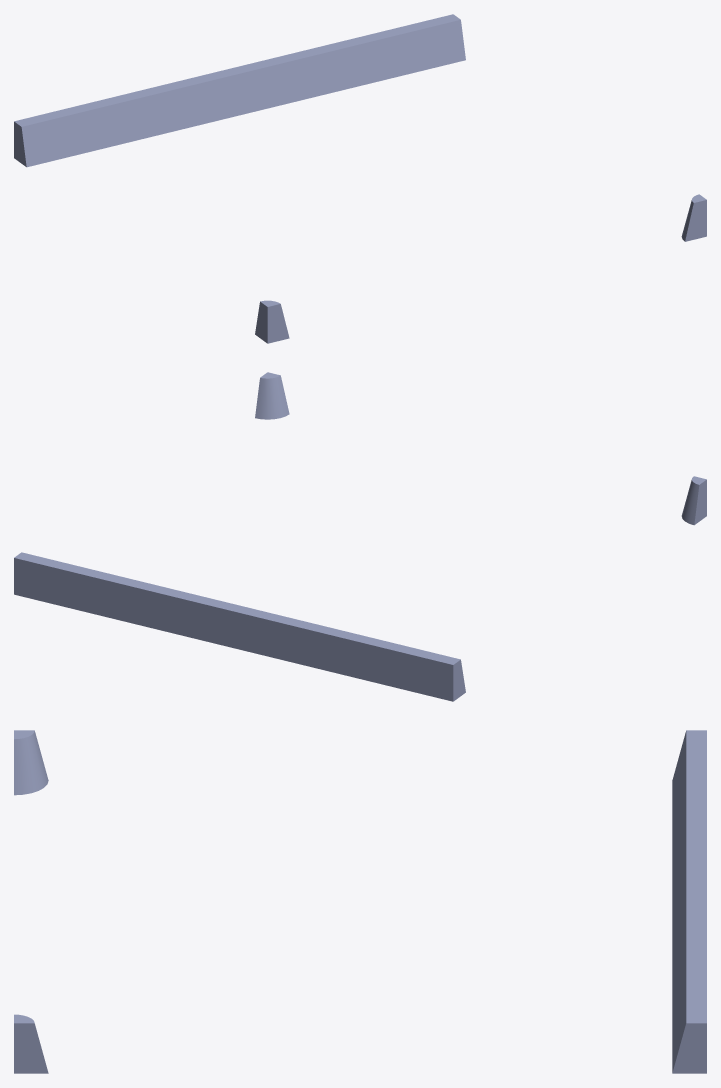
Rendered from road-intersection-barrier.glb.
3 views of the same model, one above another, from view 1: azimuth 30°, elevation 25°; view 2: azimuth 150°, elevation 25°; view 3: azimuth 270°, elevation 25° (orthographic). The views are drawn at different scales.
Visible parts, largest first — view 1: road-intersection-barrier; view 2: road-intersection-barrier; view 3: road-intersection-barrier.
Part boxes in pixels (x1,y1,x2,y2): road-intersection-barrier: [14, 14, 706, 343]; road-intersection-barrier: [14, 372, 706, 701]; road-intersection-barrier: [14, 730, 706, 1073].
Size of the model in its own units: 1 by 0.08 by 1.
Materials: 1 (1 with a texture image).
